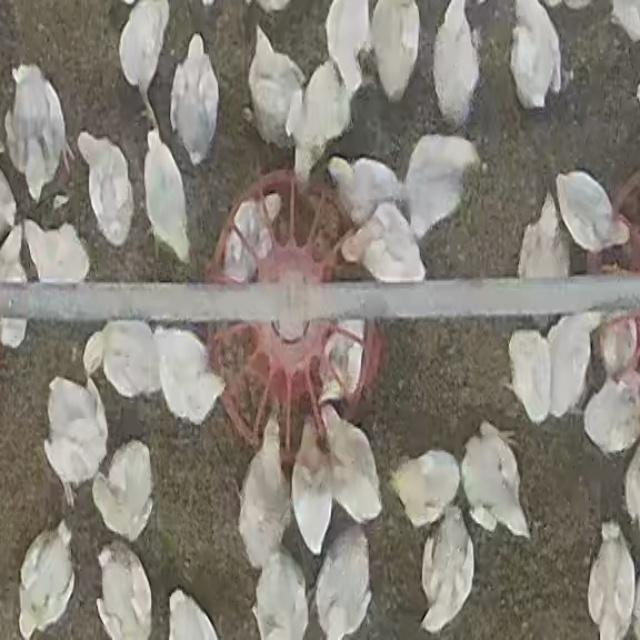chicken: (6, 62, 76, 204), (44, 375, 108, 505), (316, 401, 382, 526), (288, 60, 350, 185), (238, 417, 288, 570), (405, 133, 483, 229), (246, 24, 304, 150), (153, 326, 225, 426), (75, 130, 134, 248), (314, 521, 373, 638), (170, 33, 220, 166), (142, 130, 191, 262), (420, 510, 472, 633), (215, 192, 285, 283), (511, 0, 565, 117), (290, 416, 335, 556), (464, 431, 524, 535), (86, 319, 160, 403), (118, 0, 170, 119), (343, 209, 423, 286), (518, 177, 576, 282), (92, 441, 151, 544), (20, 522, 74, 634), (389, 449, 462, 531), (432, 0, 481, 118), (539, 313, 596, 414), (250, 546, 309, 640), (557, 168, 628, 244), (96, 544, 154, 637), (330, 153, 407, 222), (364, 0, 419, 93), (587, 525, 634, 633), (22, 218, 92, 284), (584, 373, 640, 450), (502, 333, 549, 421), (0, 227, 29, 350), (328, 0, 367, 90), (323, 326, 368, 400), (167, 592, 222, 638), (595, 313, 633, 373)
